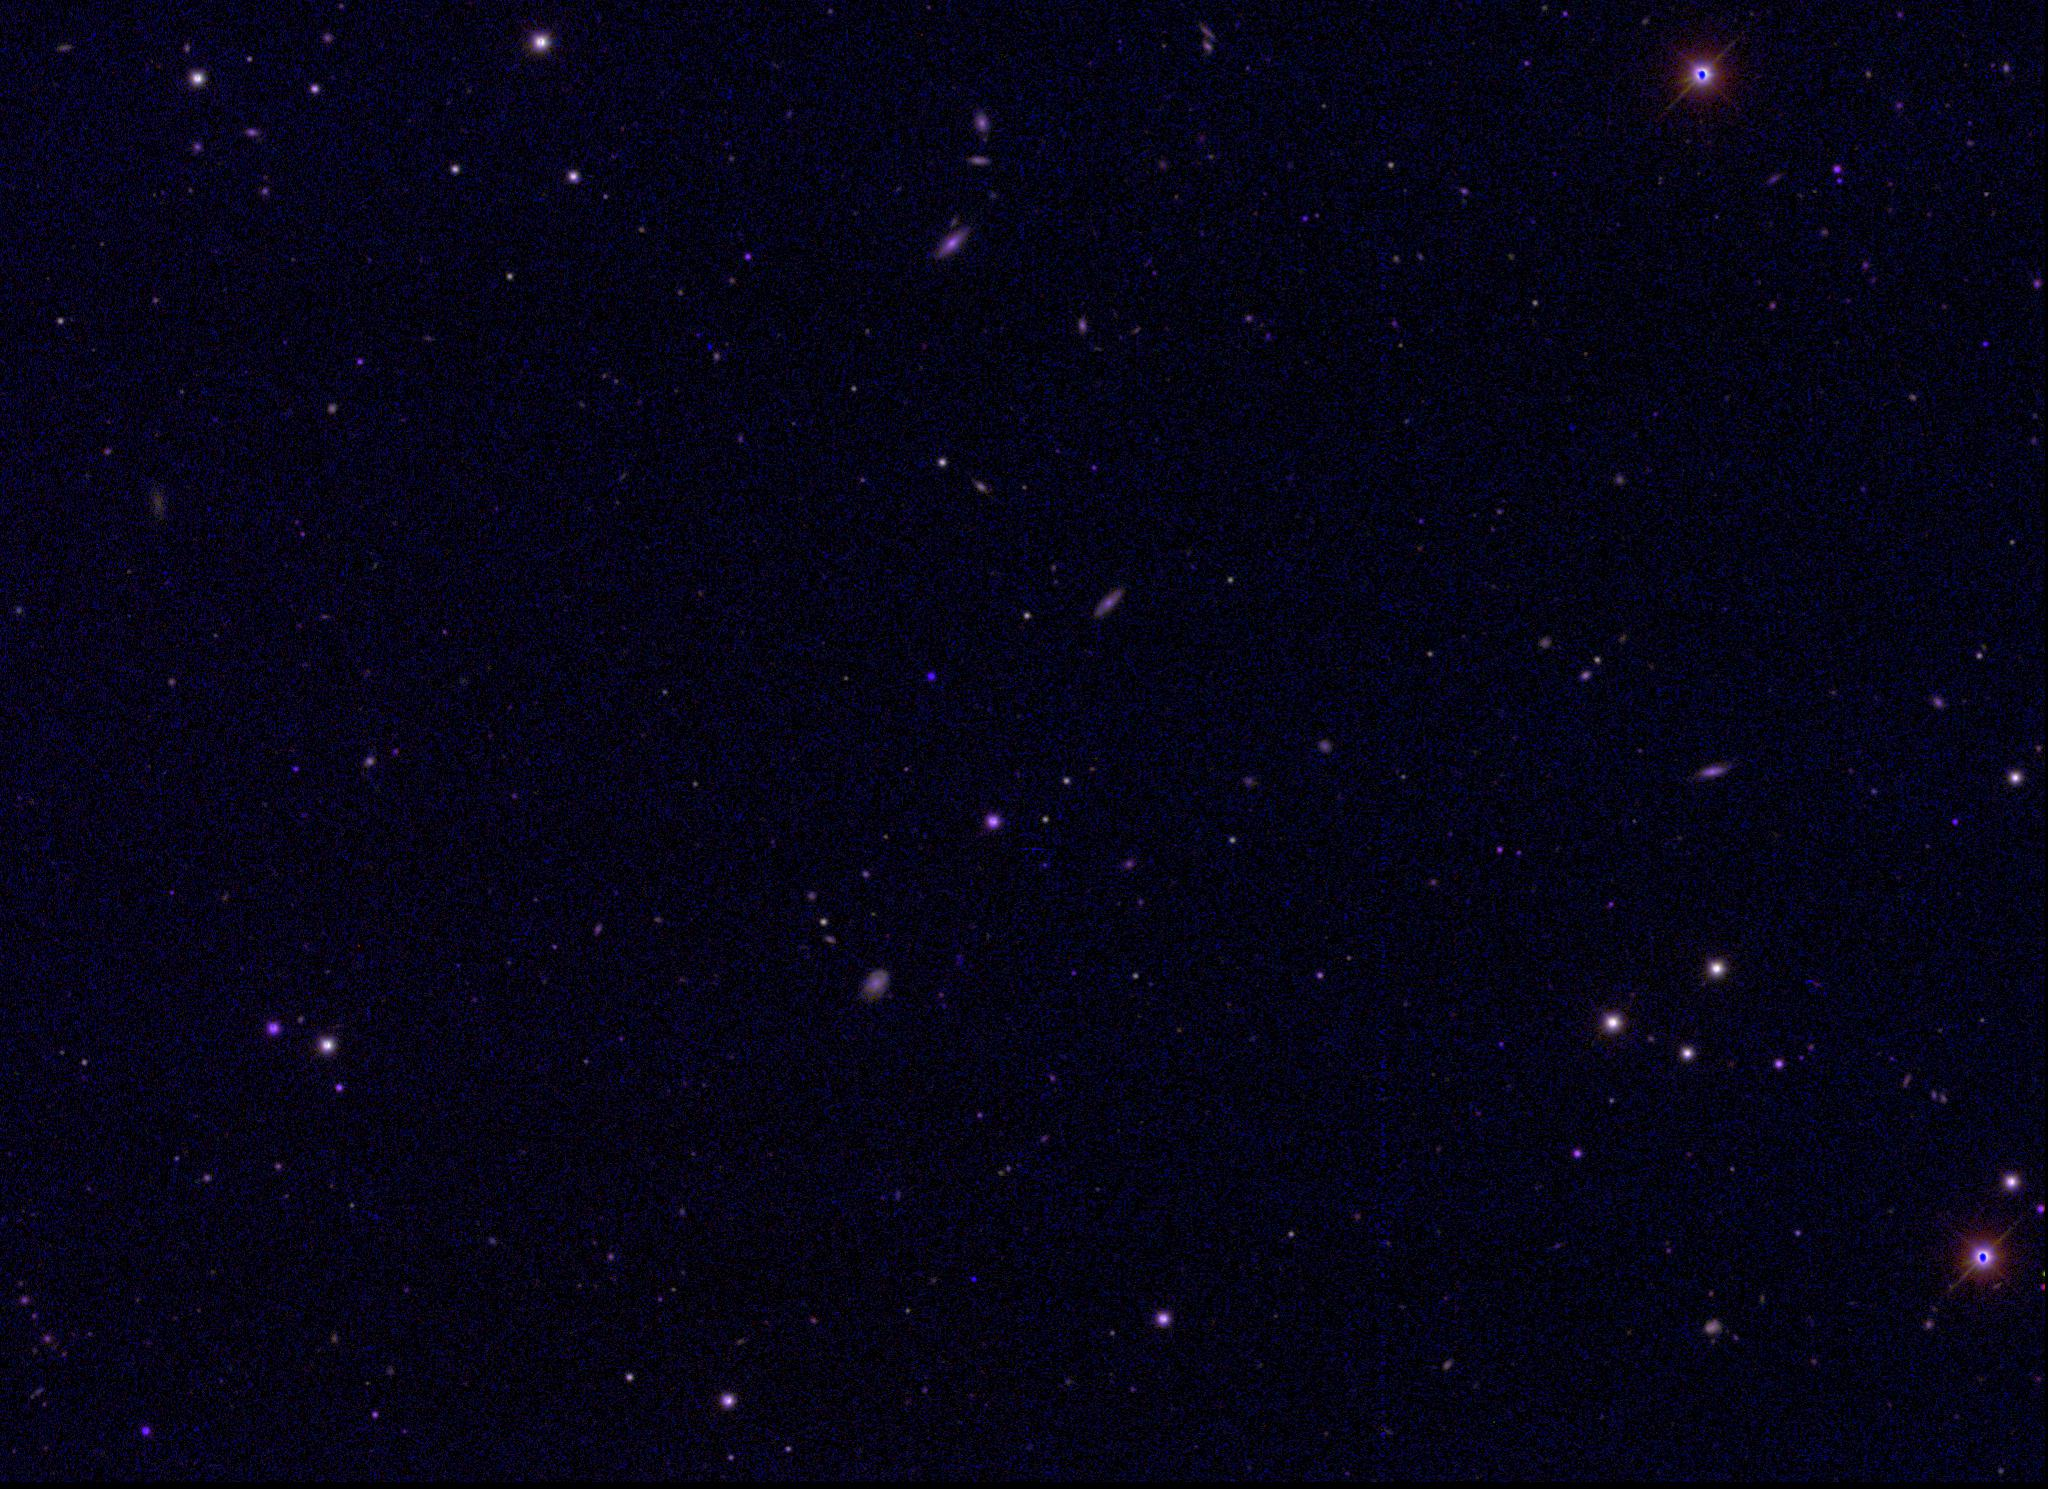L: (967, 1271, 981, 1285)
